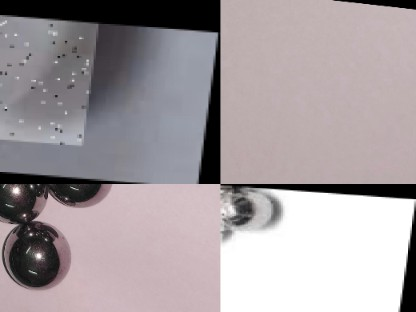ironball: (0, 221, 65, 290), (220, 186, 290, 232), (0, 179, 46, 224), (49, 180, 116, 208), (220, 184, 269, 189)
